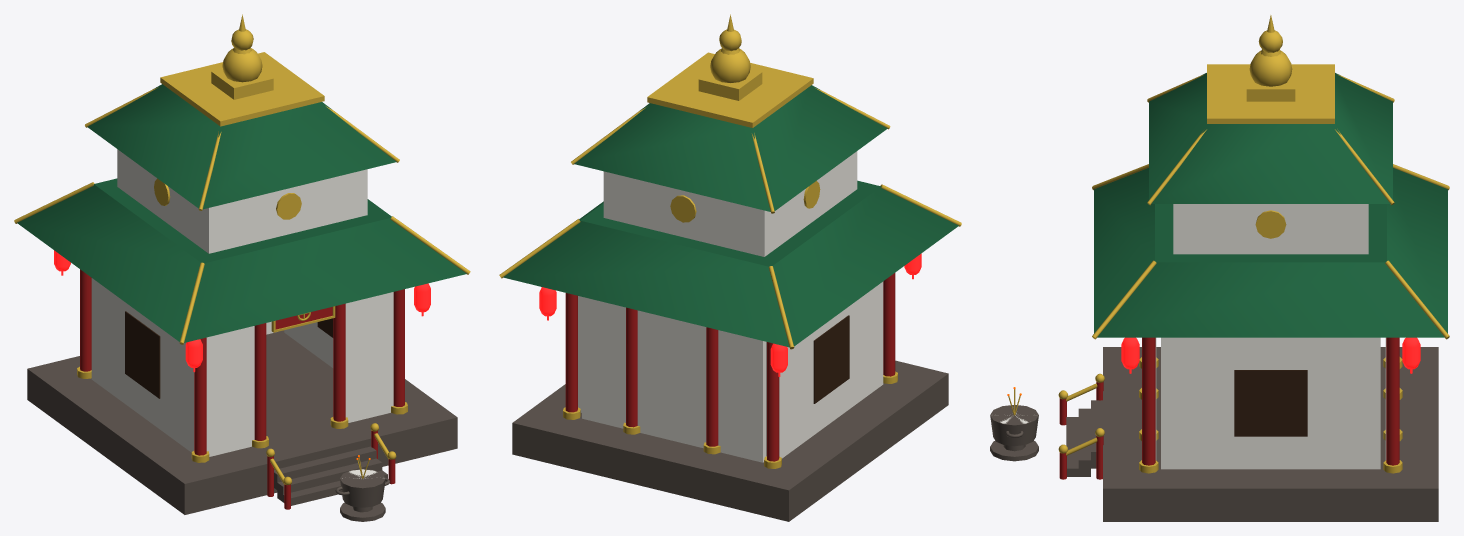
The model's file is pagoda.glb.
3 renders of one model, left to right at view 1: azimuth 30°, elevation 25°; view 2: azimuth 150°, elevation 25°; view 3: azimuth 270°, elevation 25°, orthographic. The views are drawn at different scales.
Visible parts, largest first — view 1: Mesh_LowerRoof, Mesh_Plinth, Mesh_UpperRoof, Mesh_MezzanineWall, Mesh_WallRight, Mesh_WallFrontLeft, Mesh_WallFrontRight, Mesh_SpirePlate, Mesh_WinFrame_1, Mesh_ColShaft_4, Mesh_ColShaft_5, Mesh_ColShaft_1 (+11 smaller); view 2: Mesh_LowerRoof, Mesh_Plinth, Mesh_UpperRoof, Mesh_WallBack, Mesh_MezzanineWall, Mesh_WallRight, Mesh_SpirePlate, Mesh_WinFrame_1, Mesh_ColShaft_3, Mesh_ColShaft_6, Mesh_ColShaft_7, Mesh_ColShaft_0 (+4 smaller); view 3: Mesh_LowerRoof, Mesh_Plinth, Mesh_WallLeft, Mesh_UpperRoof, Mesh_MezzanineWall, Mesh_SpirePlate, Mesh_WinFrame_0, Mesh_ColShaft_1, Mesh_ColShaft_3, Mesh_IncenseBowl, Mesh_SpireGourdB, Mesh_SpireBase (+6 smaller).
Part boxes in pixels (x1=…): Mesh_LowerRoof: x1=17, y1=178, x2=466, y2=342; Mesh_Plinth: x1=27, y1=330, x2=457, y2=514; Mesh_UpperRoof: x1=87, y1=84, x2=396, y2=209; Mesh_MezzanineWall: x1=117, y1=149, x2=367, y2=253; Mesh_WallRight: x1=91, y1=278, x2=194, y2=452; Mesh_WallFrontLeft: x1=345, y1=292, x2=393, y2=422; Mesh_WallFrontRight: x1=206, y1=326, x2=254, y2=456; Mesh_SpirePlate: x1=160, y1=52, x2=324, y2=126; Mesh_WinFrame_1: x1=125, y1=311, x2=160, y2=398; Mesh_ColShaft_4: x1=254, y1=323, x2=266, y2=440; Mesh_ColShaft_5: x1=333, y1=303, x2=345, y2=421; Mesh_ColShaft_1: x1=393, y1=289, x2=404, y2=406; Mesh_LowerRoof: x1=503, y1=180, x2=958, y2=347; Mesh_Plinth: x1=512, y1=342, x2=948, y2=521; Mesh_UpperRoof: x1=574, y1=85, x2=887, y2=211; Mesh_WallBack: x1=582, y1=297, x2=766, y2=462; Mesh_MezzanineWall: x1=603, y1=151, x2=857, y2=256; Mesh_WallRight: x1=779, y1=281, x2=883, y2=458; Mesh_SpirePlate: x1=647, y1=52, x2=813, y2=127; Mesh_WinFrame_1: x1=813, y1=315, x2=849, y2=403; Mesh_ColShaft_3: x1=565, y1=293, x2=577, y2=412; Mesh_ColShaft_6: x1=706, y1=327, x2=718, y2=446; Mesh_ColShaft_7: x1=626, y1=307, x2=637, y2=427; Mesh_ColShaft_0: x1=883, y1=273, x2=895, y2=376; Mesh_LowerRoof: x1=1094, y1=168, x2=1447, y2=337; Mesh_Plinth: x1=1103, y1=347, x2=1438, y2=521; Mesh_WallLeft: x1=1161, y1=337, x2=1380, y2=469; Mesh_UpperRoof: x1=1149, y1=73, x2=1392, y2=203; Mesh_MezzanineWall: x1=1173, y1=204, x2=1368, y2=254; Mesh_SpirePlate: x1=1207, y1=64, x2=1334, y2=123; Mesh_WinFrame_0: x1=1234, y1=370, x2=1307, y2=436; Mesh_ColShaft_1: x1=1142, y1=337, x2=1155, y2=465; Mesh_ColShaft_3: x1=1386, y1=337, x2=1399, y2=465; Mesh_IncenseBowl: x1=990, y1=405, x2=1038, y2=446; Mesh_SpireGourdB: x1=1249, y1=50, x2=1292, y2=86; Mesh_SpireBase: x1=1246, y1=68, x2=1295, y2=101.
Size of the model in its own units: 5.86 by 7.9 by 7.53.
